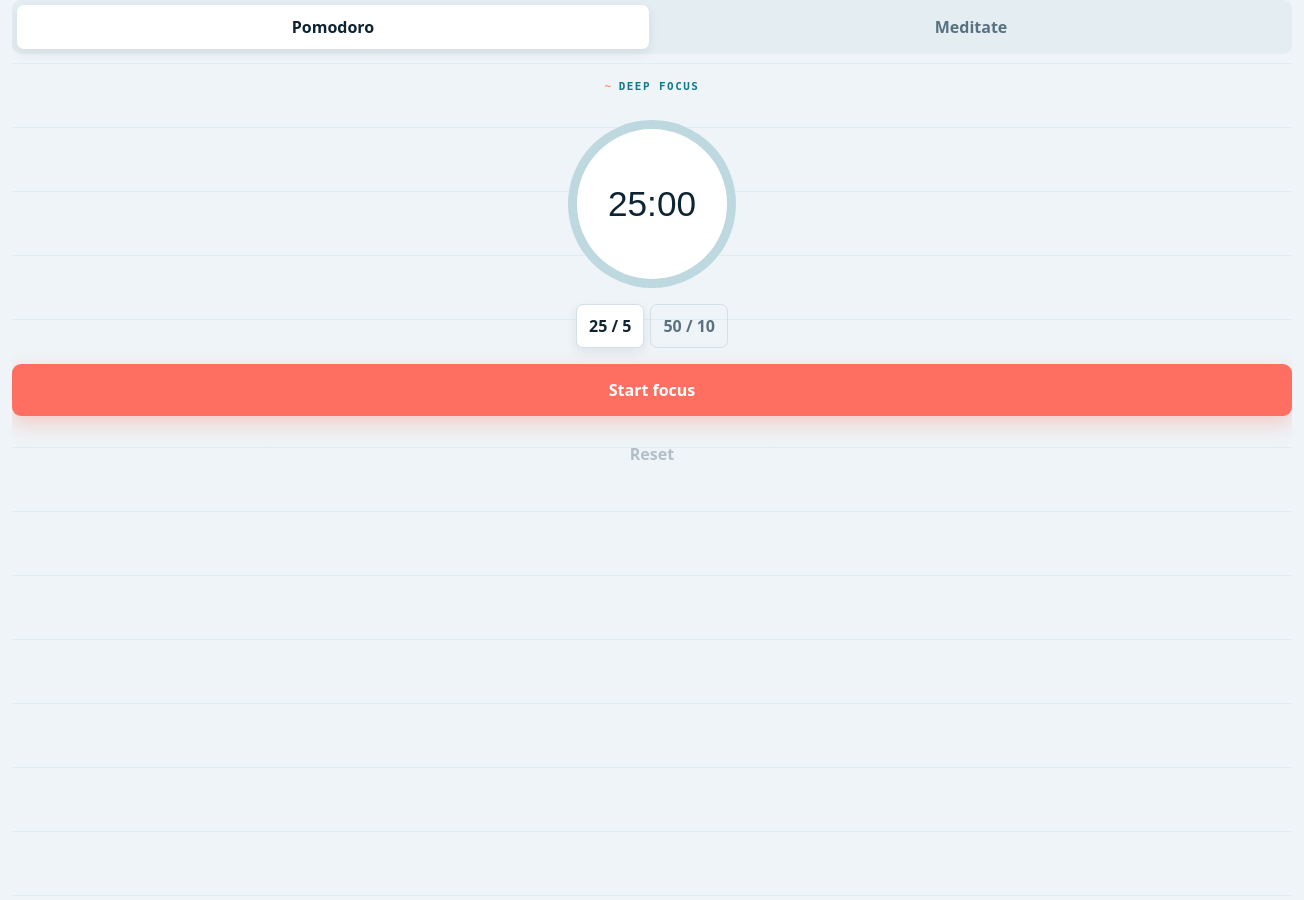
Test case: the focus clock follows wall time, rolls into its break, and resets
Click the button "Start focus".
click(652, 390)  # box [12, 364, 1292, 416]
Wait 500 ms
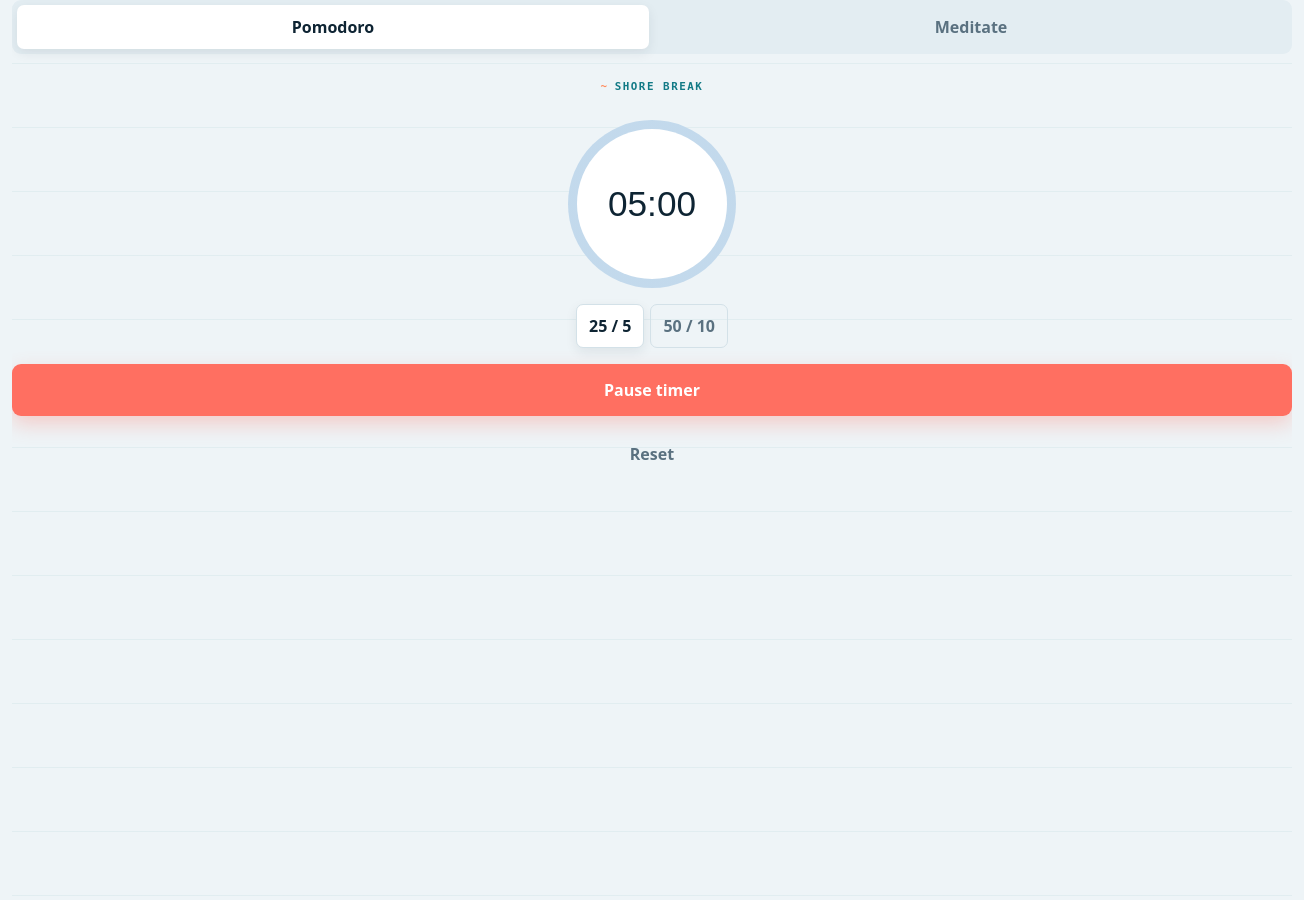
Result: the text "Shore break" is shown at [601, 80, 704, 94]
Result: the text "05:00" is shown at [577, 129, 727, 279]
Click the button "Reset".
click(652, 454)  # box [624, 432, 680, 476]
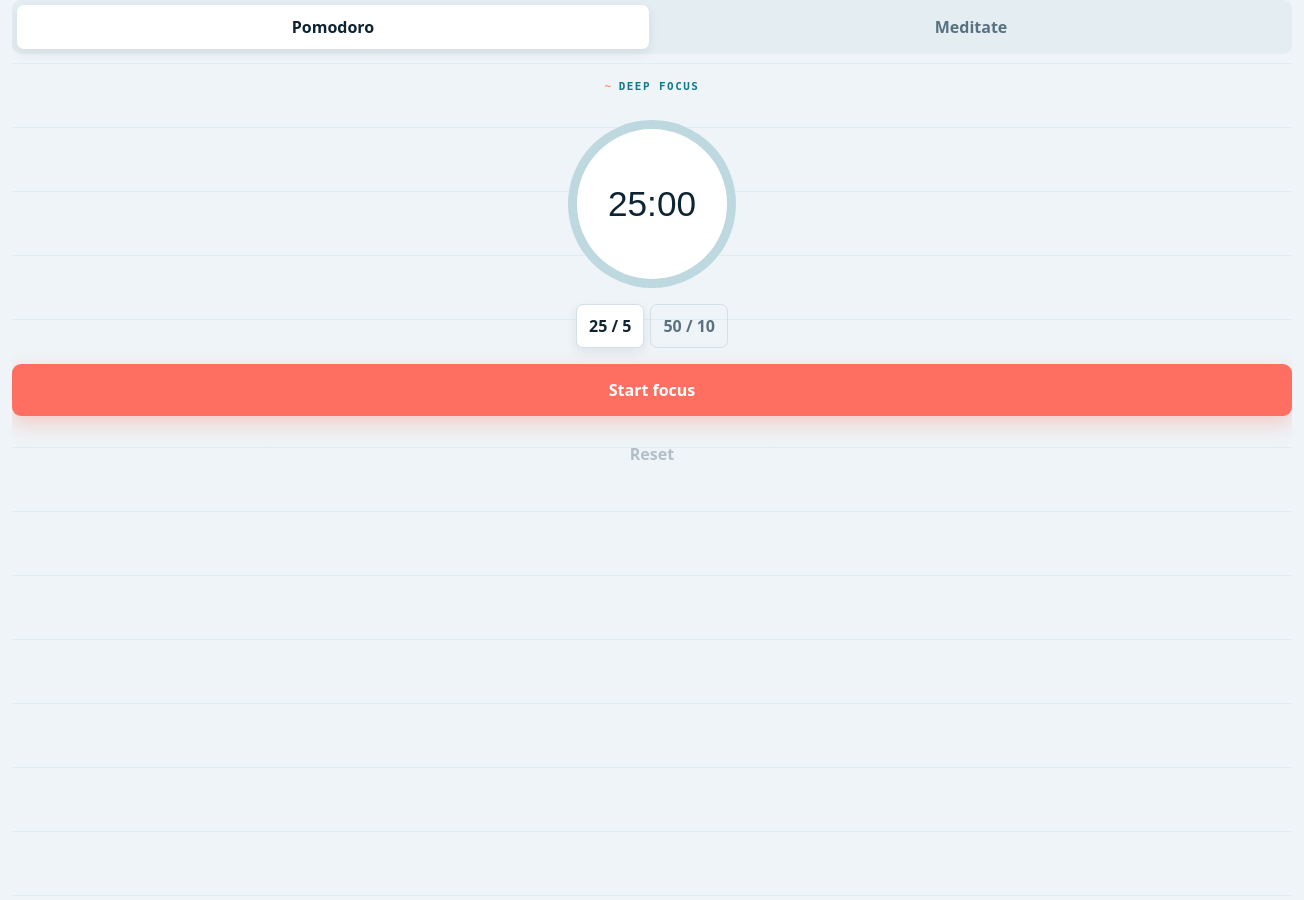
Result: the text "Deep focus" is shown at [605, 80, 699, 94]
Result: the text "25:00" is shown at [577, 129, 727, 279]
